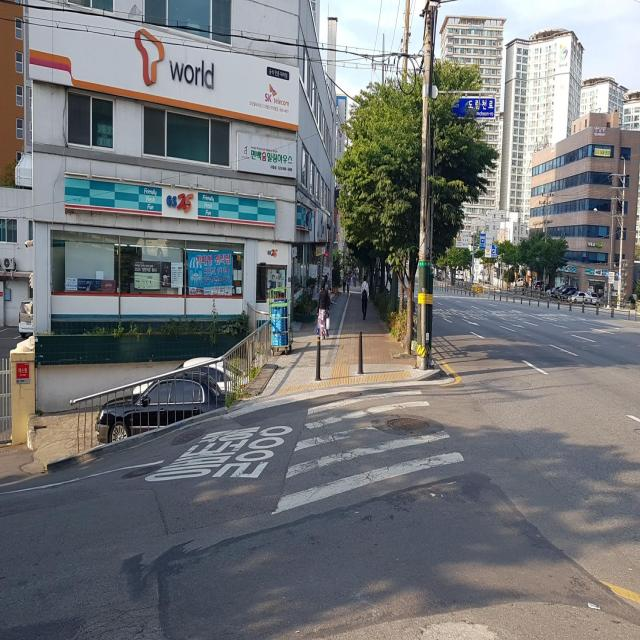횡단보도: (270, 388, 465, 517)
